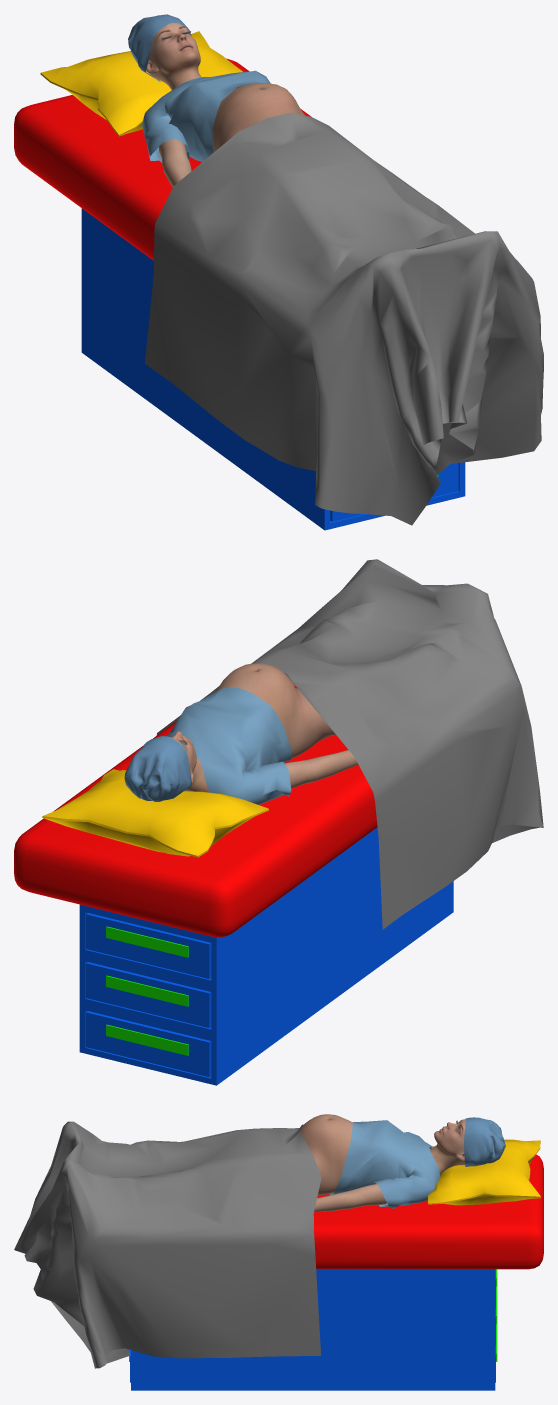
The model's file is paciente.fbx.
The picture shows the model from 3 angles, top to bottom: view 1: azimuth 30°, elevation 25°; view 2: azimuth 150°, elevation 25°; view 3: azimuth 270°, elevation 25°; orthographic projection. The views are drawn at different scales.
Parts seen in each view (by area): view 1: mantitapalfrio, hospital_fnt_cama2, mama, playera, gorrito; view 2: hospital_fnt_cama2, mantitapalfrio, playera, mama, gorrito; view 3: mantitapalfrio, hospital_fnt_cama2, playera, mama, gorrito.
Boxes of the visible parts, x1=… form: mantitapalfrio: x1=144, y1=112, x2=543, y2=525; hospital_fnt_cama2: x1=14, y1=31, x2=465, y2=530; mama: x1=146, y1=23, x2=304, y2=187; playera: x1=142, y1=70, x2=270, y2=162; gorrito: x1=128, y1=14, x2=191, y2=81; hospital_fnt_cama2: x1=14, y1=686, x2=453, y2=1085; mantitapalfrio: x1=156, y1=559, x2=543, y2=929; playera: x1=166, y1=687, x2=292, y2=804; mama: x1=162, y1=663, x2=358, y2=792; gorrito: x1=124, y1=736, x2=191, y2=801; mantitapalfrio: x1=14, y1=1121, x2=321, y2=1368; hospital_fnt_cama2: x1=129, y1=1139, x2=543, y2=1390; playera: x1=329, y1=1120, x2=440, y2=1208; mama: x1=301, y1=1114, x2=465, y2=1212; gorrito: x1=464, y1=1117, x2=505, y2=1166.
Size of the model in its own units: 88.86 by 112 by 218.
